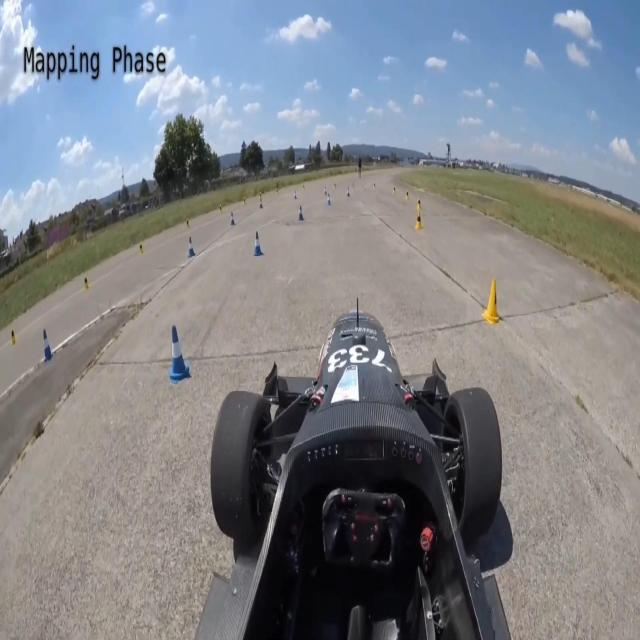blue_cone: (168, 325, 191, 385), (43, 329, 54, 363), (253, 231, 263, 257), (187, 236, 196, 258), (298, 205, 304, 221), (231, 211, 235, 226)
yellow_cone: (483, 278, 502, 324), (416, 210, 423, 230), (417, 196, 422, 211)
